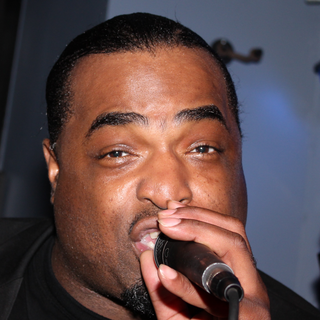eye: (92, 143, 138, 165), (178, 140, 224, 161)
